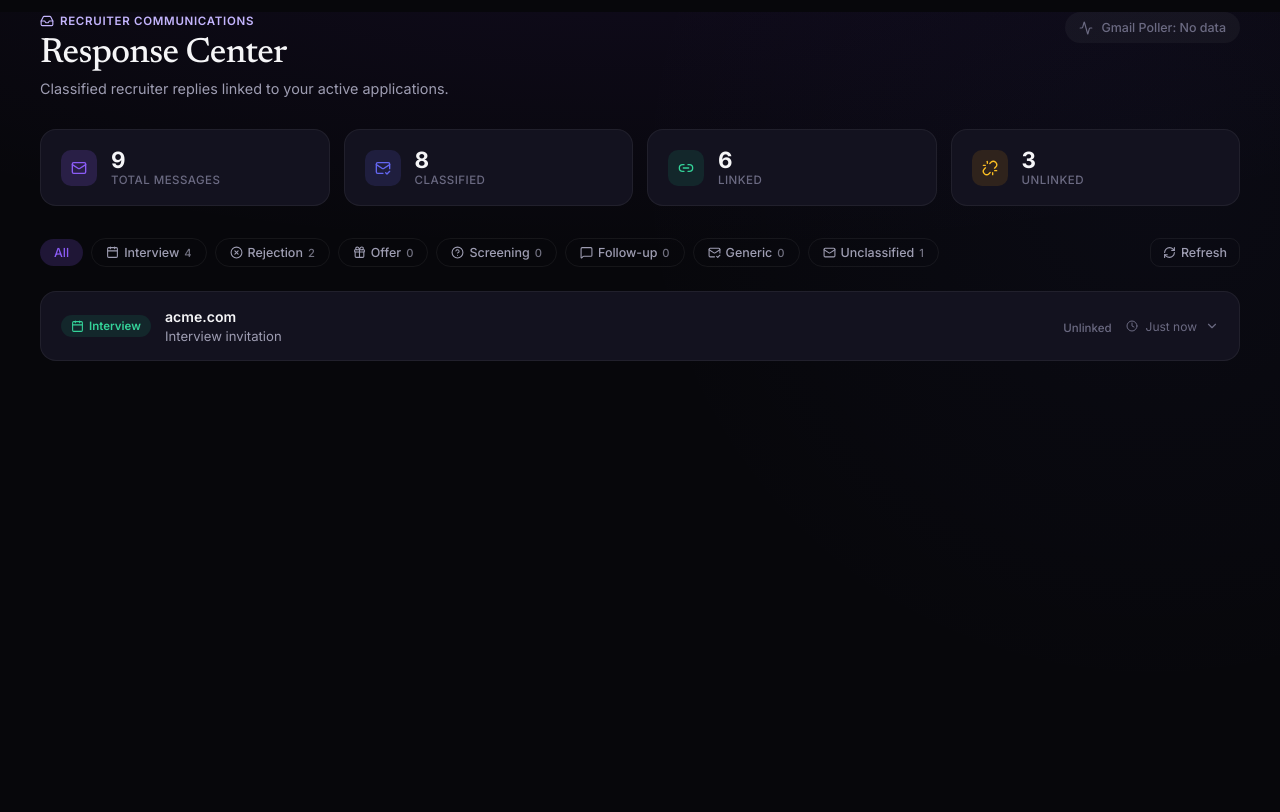
Scenario: ResponseCenterPlaceholder › blocks reply actions for unlinked messages with a warning
Click the text "acme.com" at (201, 317), box [165,308,236,325]
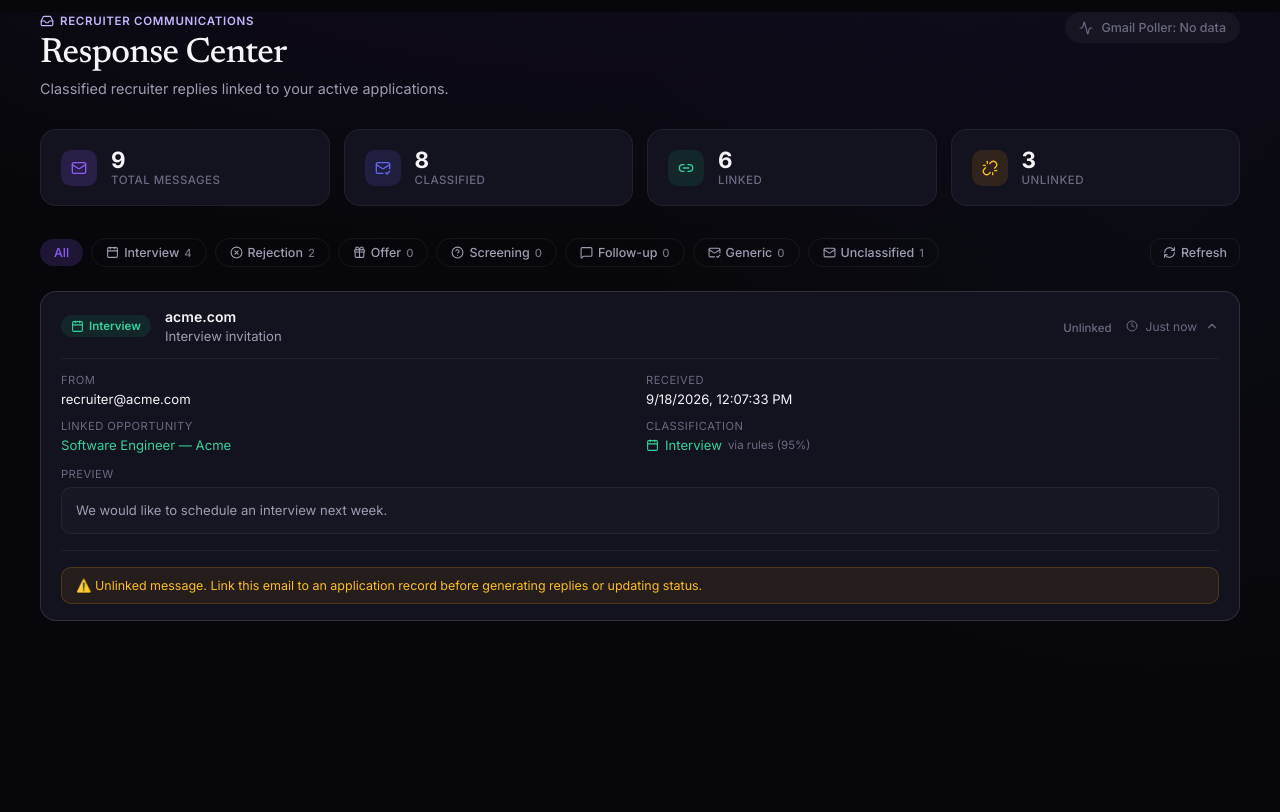
Now the text "Unlinked message. Link this email to an application record" is shown, box [76,578,702,593]
